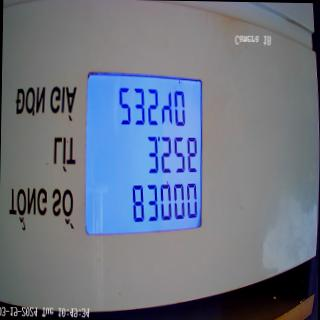screen: (80, 71, 206, 244)
